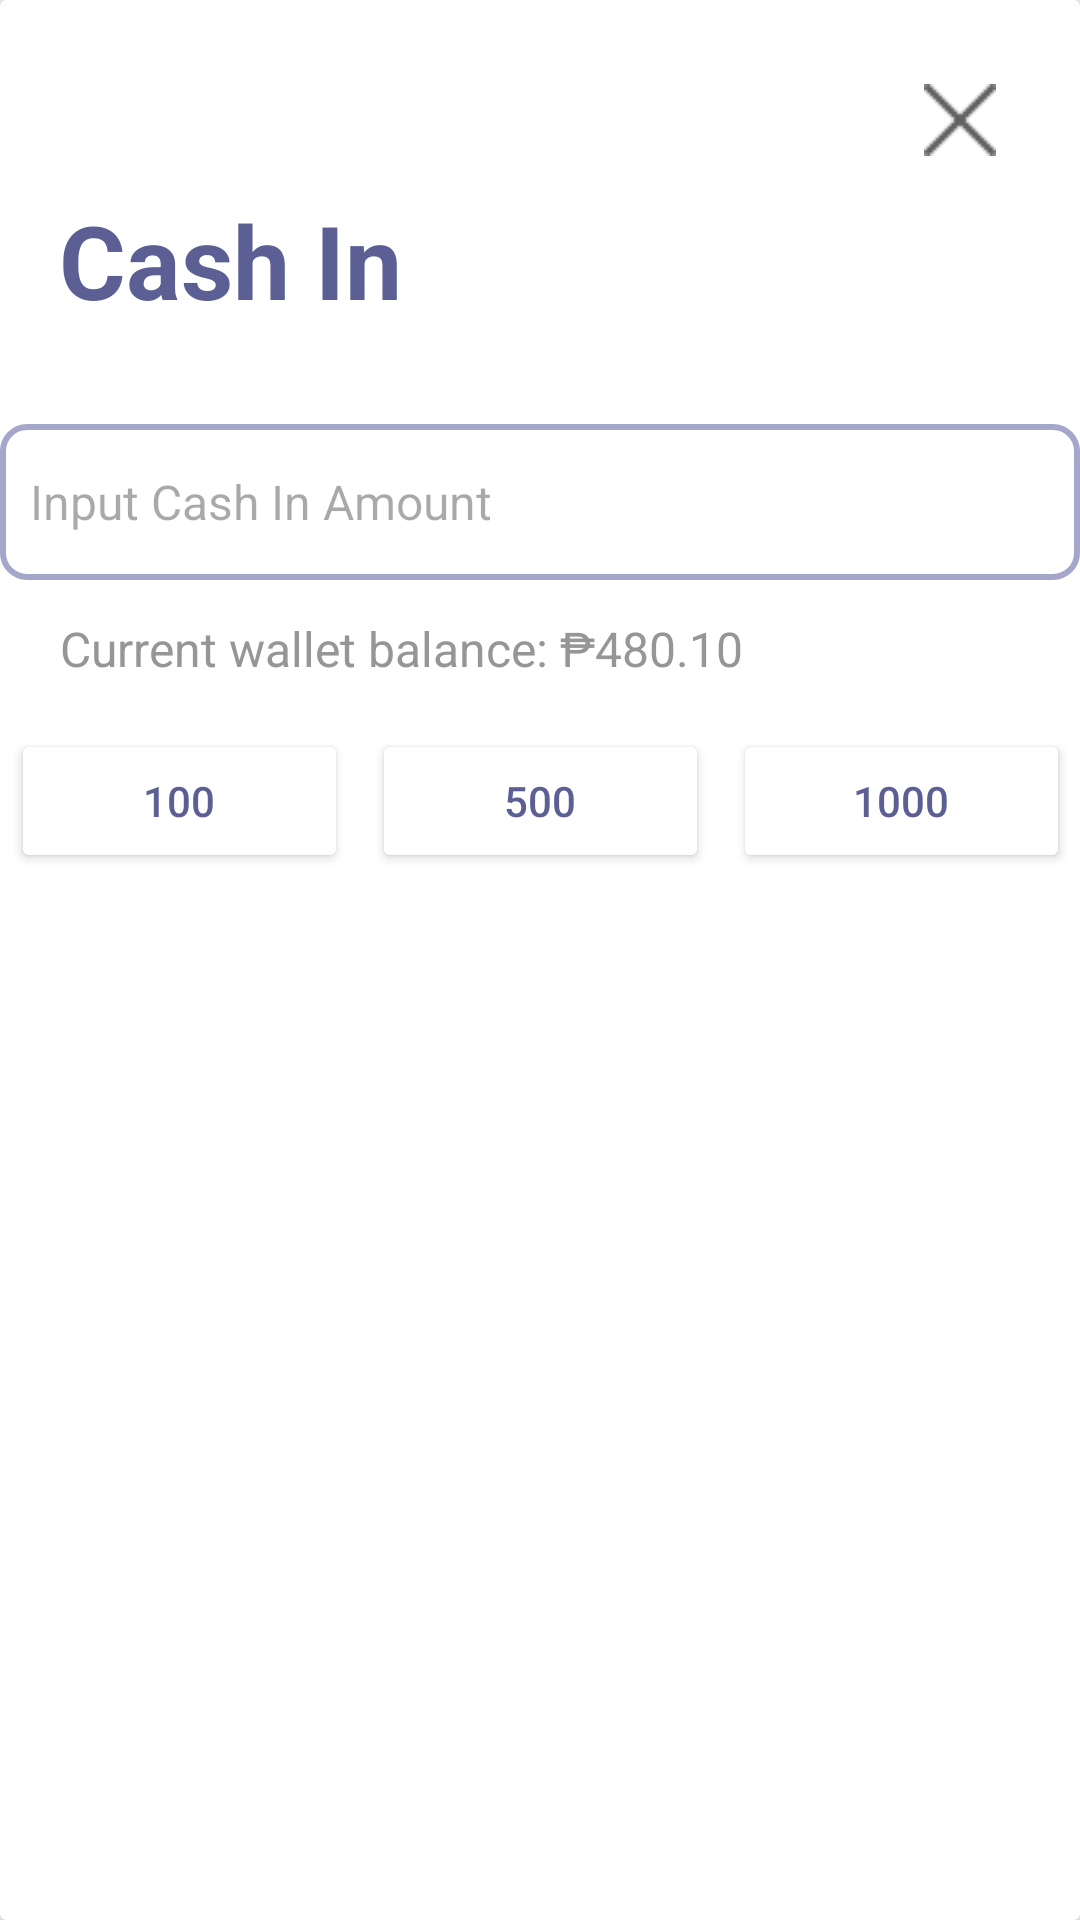

Where icons sit on this 1080×1920 app screen, as (x1, y1, x2, y2):
Close the dialog: (924, 84, 996, 156)
